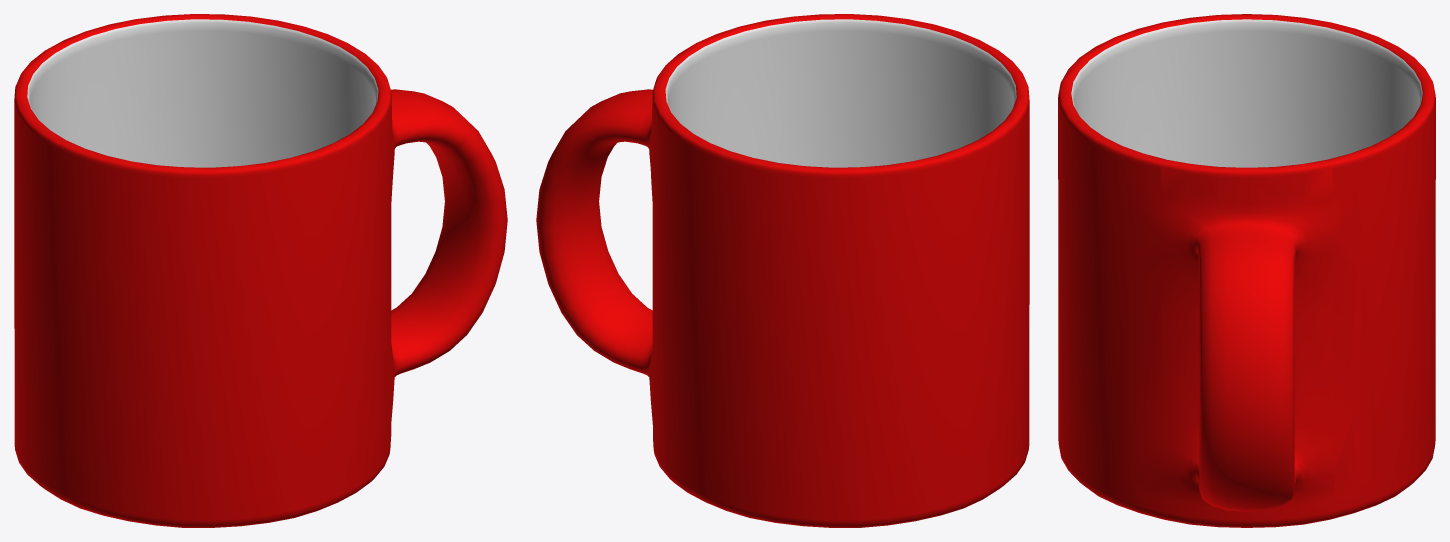
The model's file is cup.glb.
3 views of the same model, side by side, from view 1: azimuth 30°, elevation 25°; view 2: azimuth 150°, elevation 25°; view 3: azimuth 270°, elevation 25° (orthographic).
Parts seen in each view (by area): view 1: Cylinder_Front_material_0, Cylinder_Back_material_0; view 2: Cylinder_Front_material_0, Cylinder_Back_material_0; view 3: Cylinder_Front_material_0, Cylinder_Back_material_0.
Boxes of the visible parts, x1,y1,x2,y2 form: Cylinder_Front_material_0: [14, 14, 507, 527]; Cylinder_Back_material_0: [27, 19, 378, 167]; Cylinder_Front_material_0: [536, 14, 1029, 527]; Cylinder_Back_material_0: [665, 19, 1016, 167]; Cylinder_Front_material_0: [1058, 14, 1435, 527]; Cylinder_Back_material_0: [1071, 19, 1422, 167].
Size of the model in its own units: 0.2615 by 0.1998 by 0.1875.
